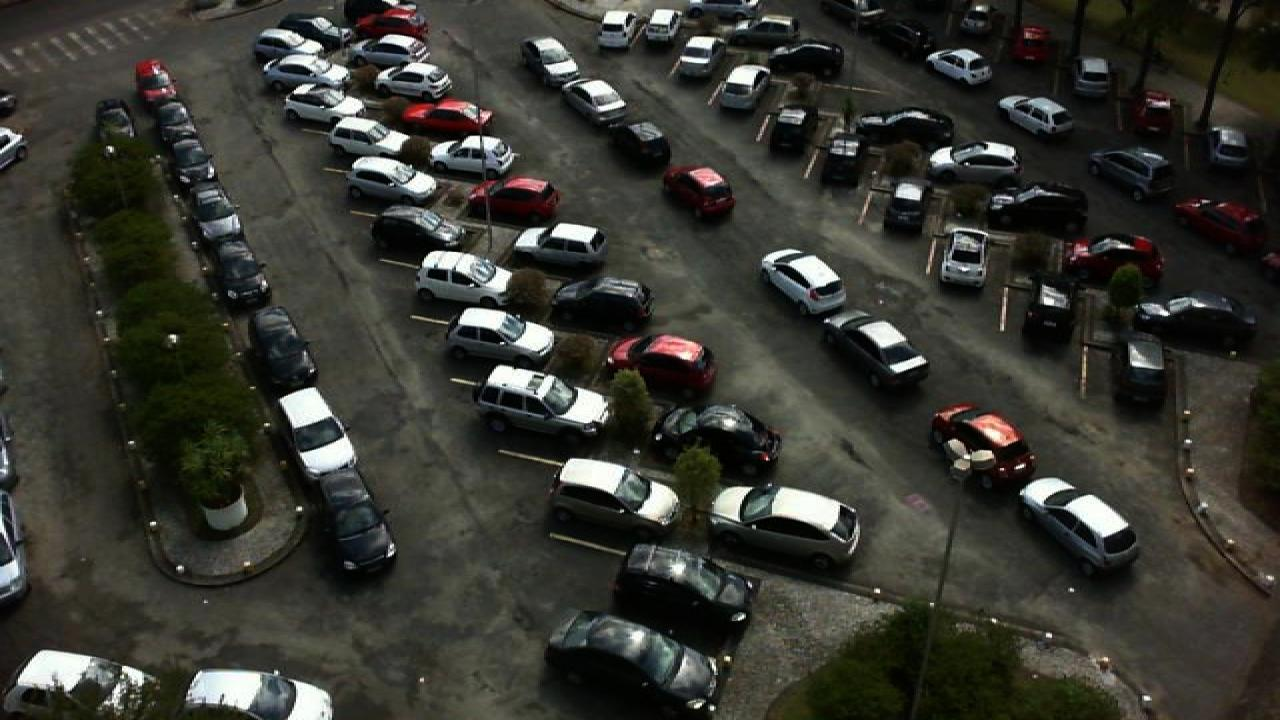Car: (542, 607, 726, 720), (706, 480, 864, 570), (610, 542, 758, 631), (1016, 475, 1142, 576), (0, 648, 154, 720), (546, 456, 684, 536), (470, 362, 610, 440), (648, 401, 782, 477), (928, 402, 1038, 490), (818, 310, 934, 390), (316, 470, 400, 575), (272, 386, 362, 478), (178, 668, 336, 720), (604, 332, 718, 399), (444, 305, 560, 370), (1130, 295, 1262, 350), (412, 248, 520, 310), (758, 246, 848, 315), (1172, 197, 1276, 254), (548, 276, 656, 330), (244, 306, 316, 387), (1062, 233, 1166, 286), (986, 183, 1092, 233), (1088, 144, 1178, 198), (366, 204, 466, 252), (510, 220, 606, 269), (208, 243, 274, 312), (466, 175, 562, 222), (346, 156, 440, 202), (1110, 332, 1170, 404), (924, 140, 1022, 184), (660, 163, 738, 218), (1018, 274, 1078, 344), (426, 132, 518, 176), (324, 114, 412, 158), (854, 106, 958, 143), (396, 99, 498, 134), (996, 93, 1078, 136), (258, 53, 350, 91), (282, 82, 366, 122), (938, 228, 992, 290), (604, 119, 672, 168), (192, 184, 244, 248), (558, 78, 630, 124), (372, 61, 454, 99), (752, 41, 848, 73), (880, 180, 934, 235), (856, 17, 934, 55), (922, 47, 994, 87), (350, 33, 430, 68), (520, 36, 582, 81), (714, 63, 772, 111), (250, 27, 328, 59), (350, 6, 432, 36), (728, 13, 802, 44), (818, 134, 864, 183), (766, 103, 812, 150), (174, 138, 218, 187), (1130, 89, 1176, 135), (1070, 54, 1116, 100), (674, 34, 722, 78), (1208, 126, 1256, 170), (274, 12, 344, 40), (134, 58, 178, 102), (94, 97, 138, 138), (596, 9, 642, 48), (816, 0, 884, 26), (156, 99, 198, 141), (1010, 24, 1052, 64), (958, 0, 1002, 38), (644, 8, 680, 45)
